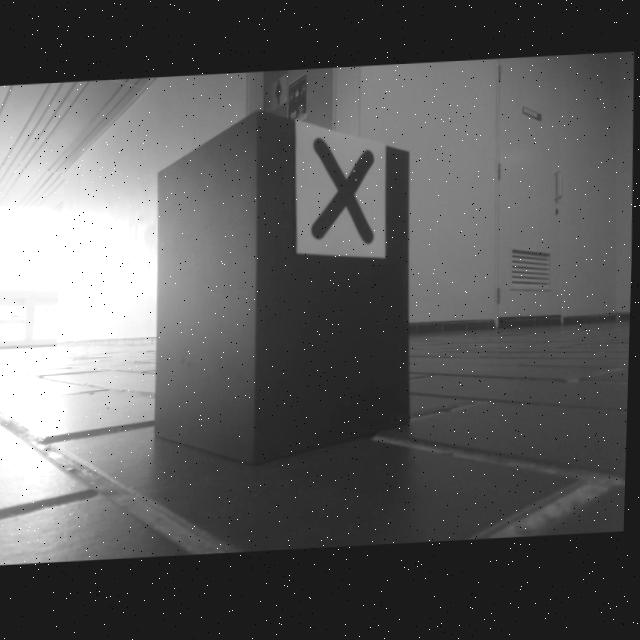X: (312, 140, 376, 247)
